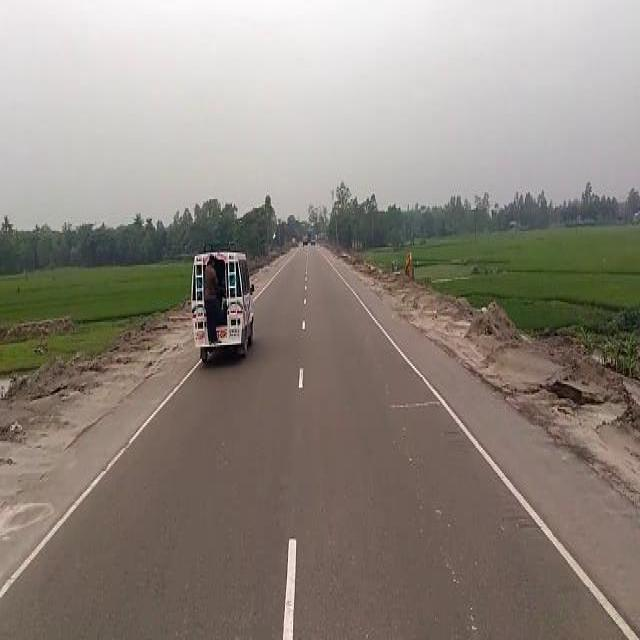bus: (187, 236, 254, 361)
truck: (301, 231, 307, 244), (310, 230, 315, 243)
